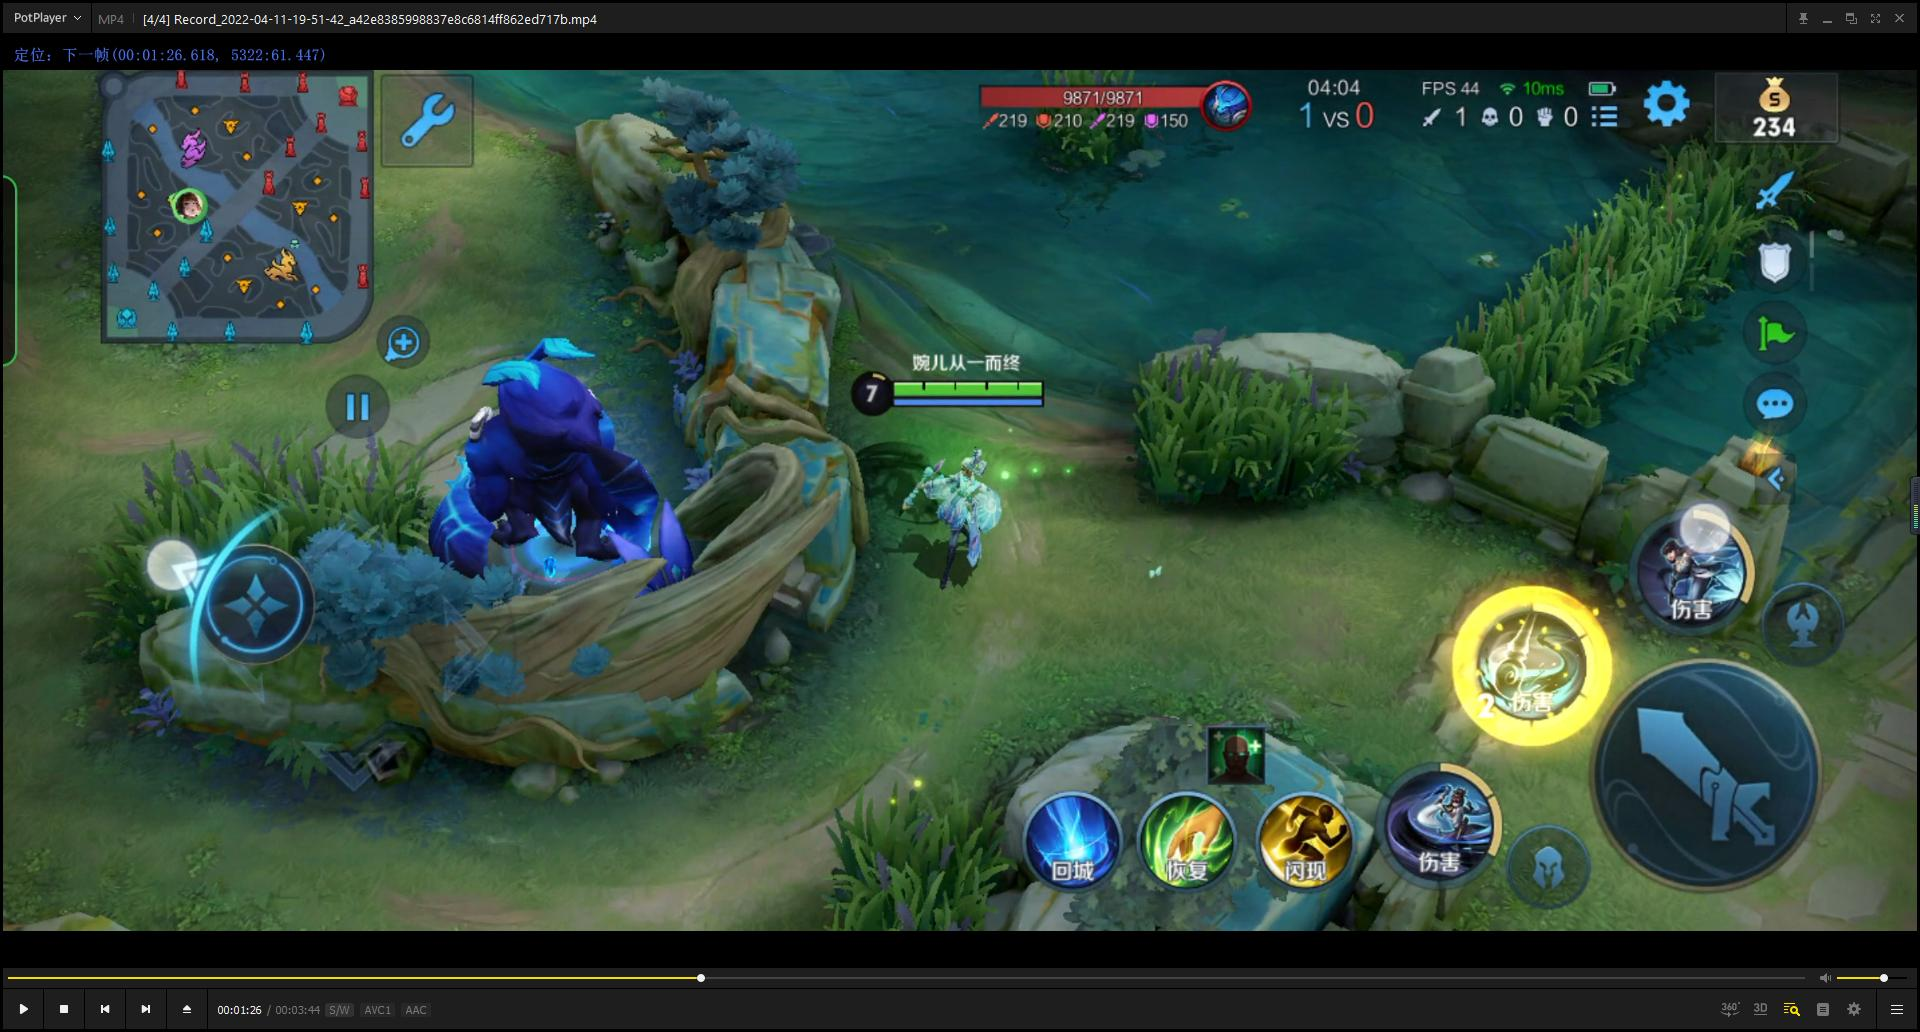Buff: (428, 344, 695, 627)
Hero: (874, 435, 1019, 582)
